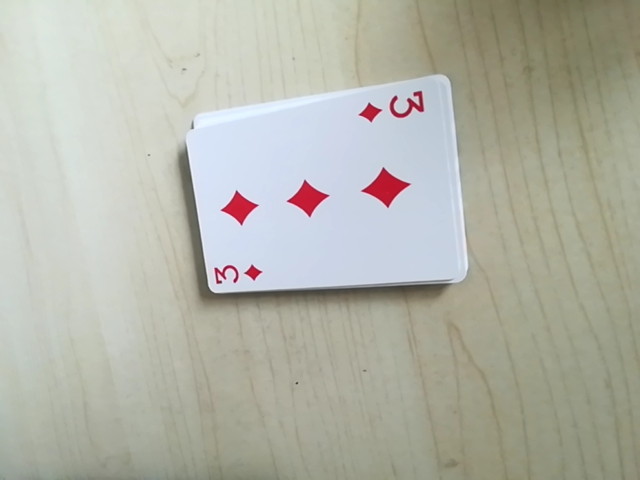fk 3: (356, 85, 435, 130), (207, 256, 268, 293)
